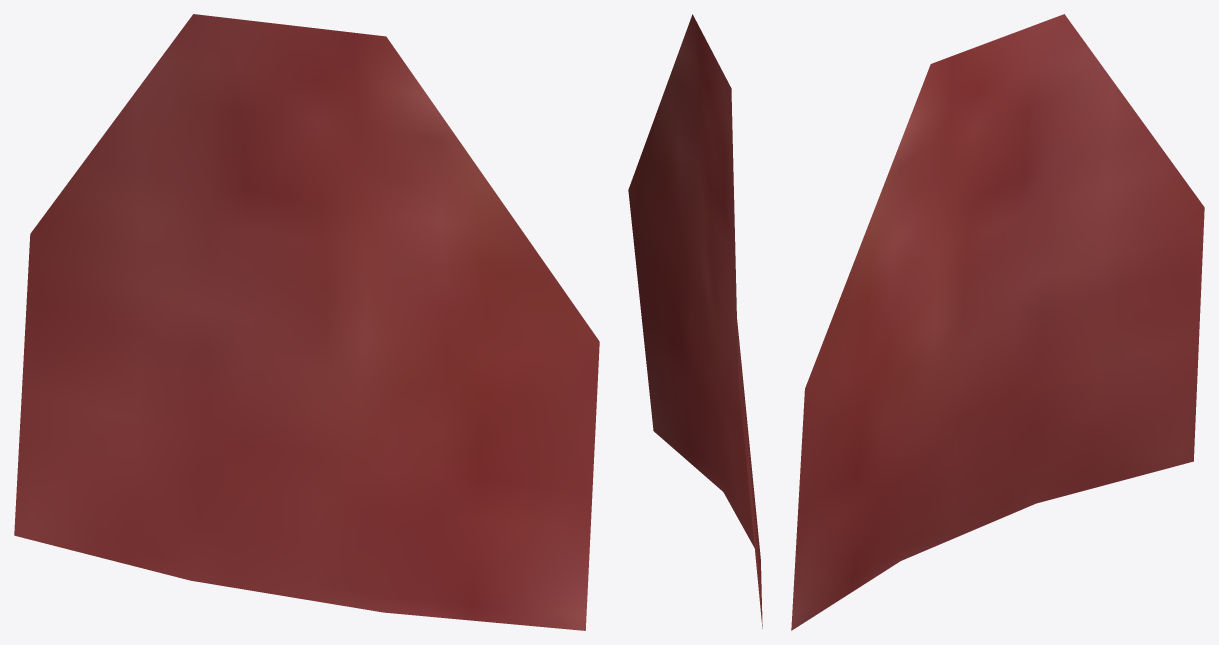
File: ampolla.FBX
3 renders of one model, left to right at view 1: azimuth 30°, elevation 25°; view 2: azimuth 150°, elevation 25°; view 3: azimuth 270°, elevation 25°, orthographic. The views are drawn at different scales.
Visible parts, largest first — view 1: Gastrointestinal_Trac_2_pivot; view 2: Gastrointestinal_Trac_2_pivot; view 3: Gastrointestinal_Trac_2_pivot.
Boxes of the visible parts, x1,y1,x2,y2 form: Gastrointestinal_Trac_2_pivot: (14,14,599,630); Gastrointestinal_Trac_2_pivot: (628,14,762,628); Gastrointestinal_Trac_2_pivot: (791,14,1204,630).
Size of the model in its own units: 0.6203 by 0.909 by 0.6638.
1 material, 1 textured.
